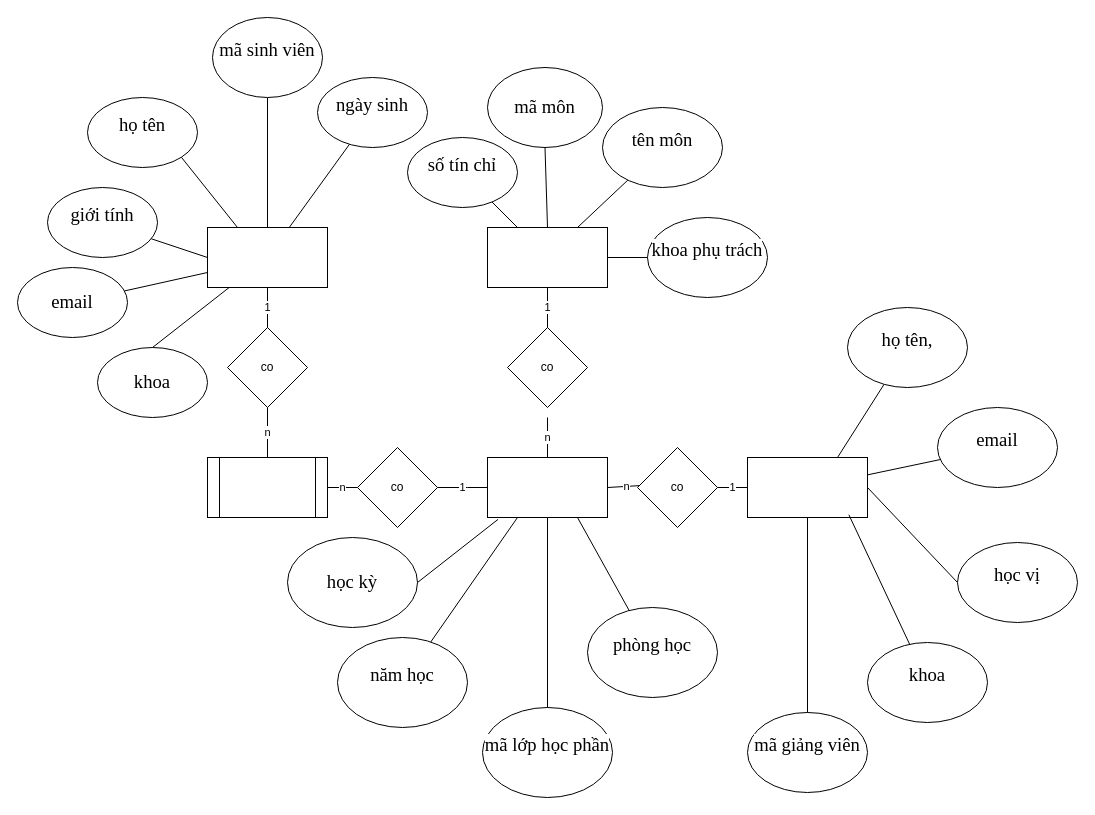
Some shapes in this 1095 by 815 pixel diagram are drawn without their labels. The shapes that lost their labels are listed below. From the top down, each one's centre as x and y in pixels, then its label:
(x=267, y=257): sinh vien
(x=547, y=257): mon hoc
(x=267, y=487): dky
(x=547, y=487): lop hc phan
(x=807, y=487): giang vien
